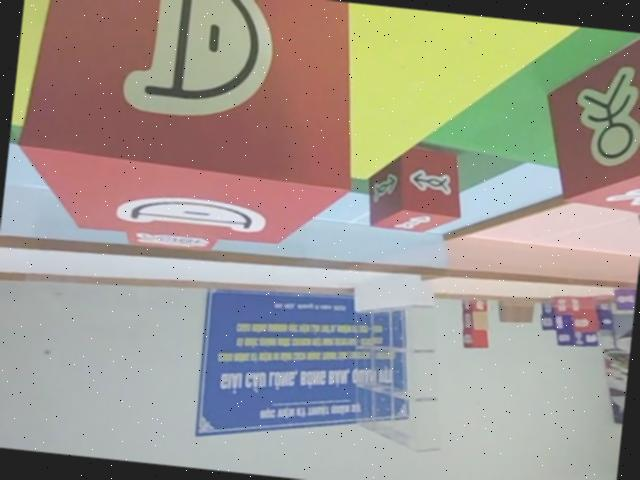R2 Real: (9, 0, 369, 262), (533, 23, 640, 222), (366, 139, 470, 239)
